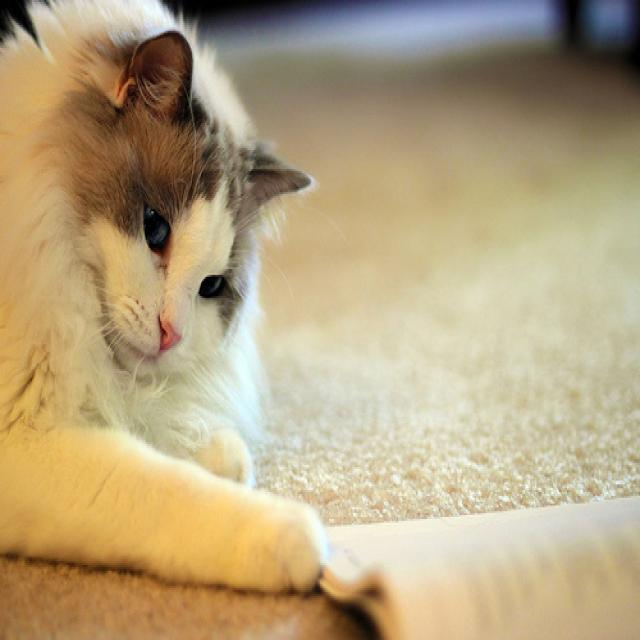Ragdoll: (67, 29, 310, 375)
